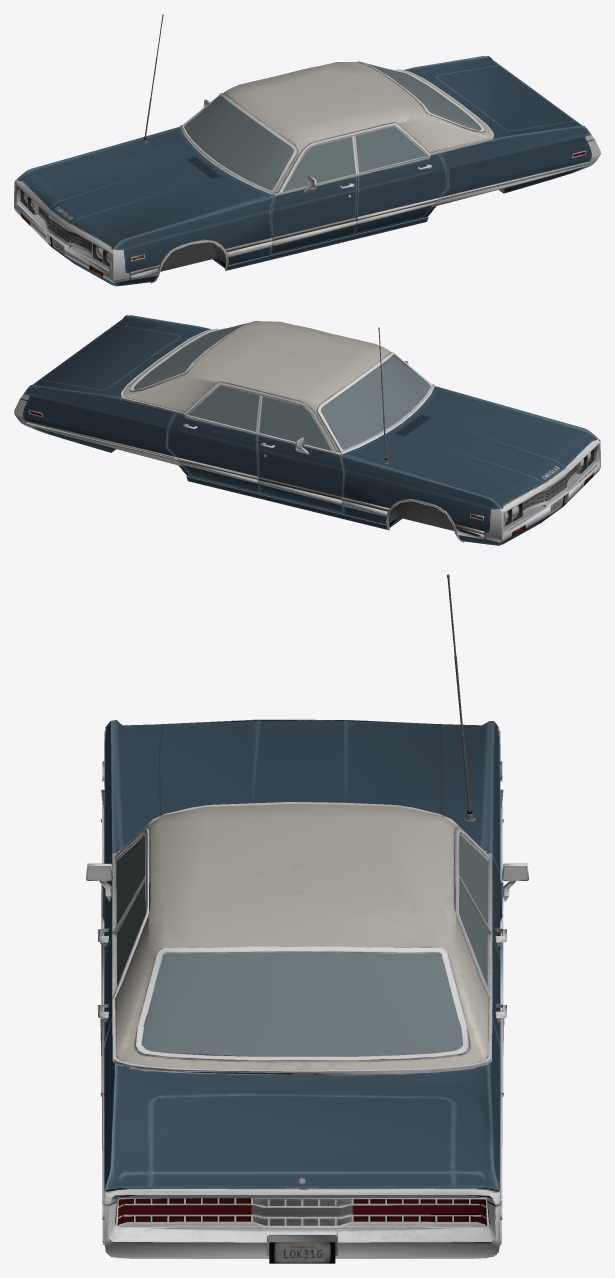
File: chassis_d3.obj
3 renders of one model, top to bottom at view 1: azimuth 30°, elevation 25°; view 2: azimuth 150°, elevation 25°; view 3: azimuth 270°, elevation 25°, orthographic. The views are drawn at different scales.
Parts seen in each view (by area): view 1: base_UNWRAPPED_0, base_Glass_0, door3_UNWRAPPED_0, door1_UNWRAPPED_0; view 2: base_UNWRAPPED_0, base_Glass_0, door4_UNWRAPPED_0, door3_UNWRAPPED_0; view 3: base_UNWRAPPED_0, base_Glass_0, door3_UNWRAPPED_0.
Part boxes in pixels (x1,y1,x2,y2): base_UNWRAPPED_0: [14, 56, 600, 286]; base_Glass_0: [184, 64, 480, 191]; door3_UNWRAPPED_0: [354, 153, 447, 233]; door1_UNWRAPPED_0: [270, 176, 357, 253]; base_UNWRAPPED_0: [14, 315, 600, 545]; base_Glass_0: [133, 323, 430, 450]; door4_UNWRAPPED_0: [167, 413, 260, 492]; door3_UNWRAPPED_0: [257, 435, 344, 512]; base_UNWRAPPED_0: [86, 719, 528, 1263]; base_Glass_0: [116, 835, 488, 1056]; door3_UNWRAPPED_0: [104, 856, 500, 1044].
Bounding box in the file's own units: 1.25 × 0.4653 × 0.4818.
7 materials, 5 textured.
